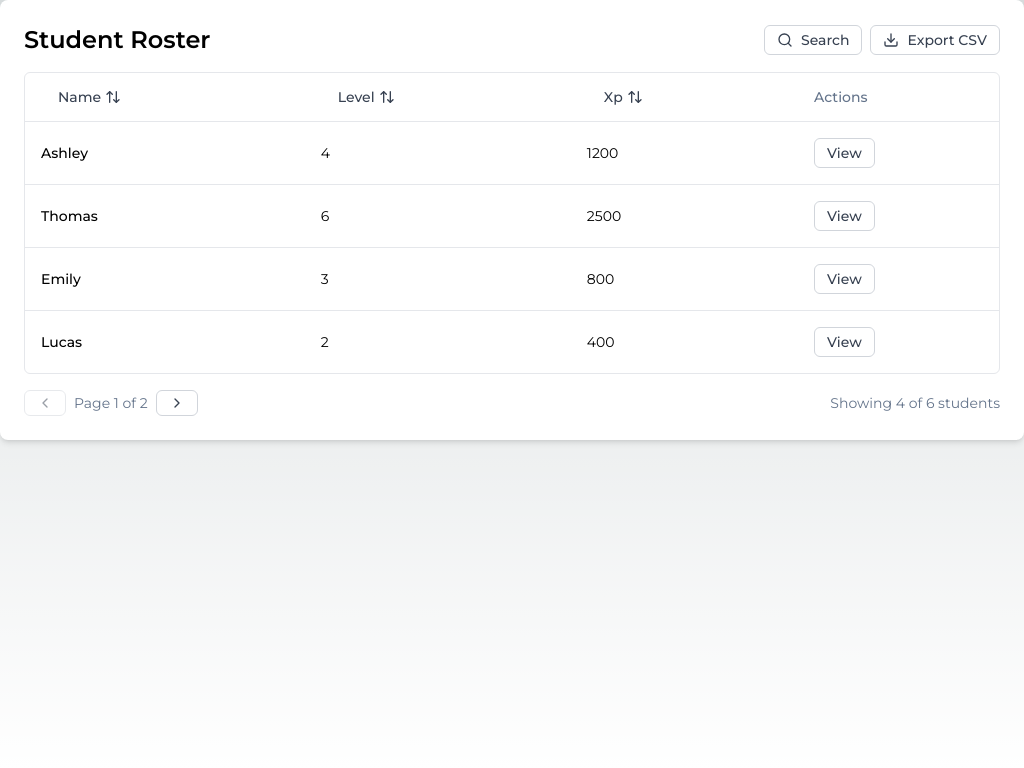
StudentRoster Performance › sorts students by level
The image size is (1024, 768).
Click the button "Level".
click(366, 97)  # box [321,77,412,117]
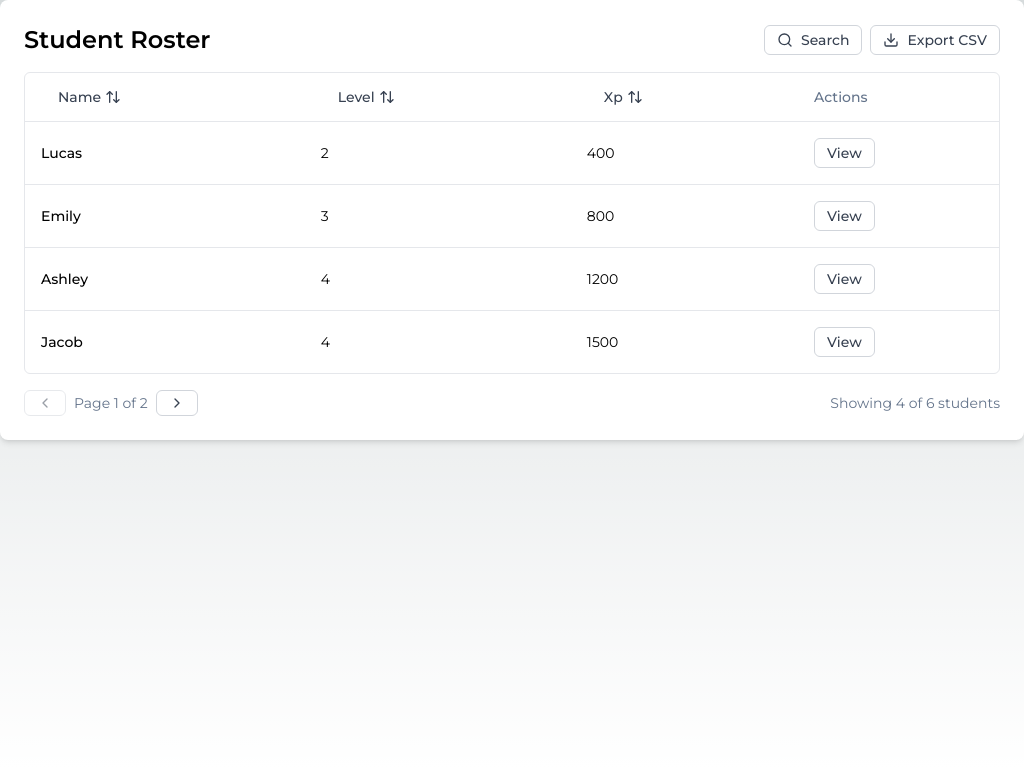
Check: the text "Lucas" is shown, box [25,121,305,184]
// Click again for descending
Click the button "Level".
click(366, 97)  # box [321,77,412,117]
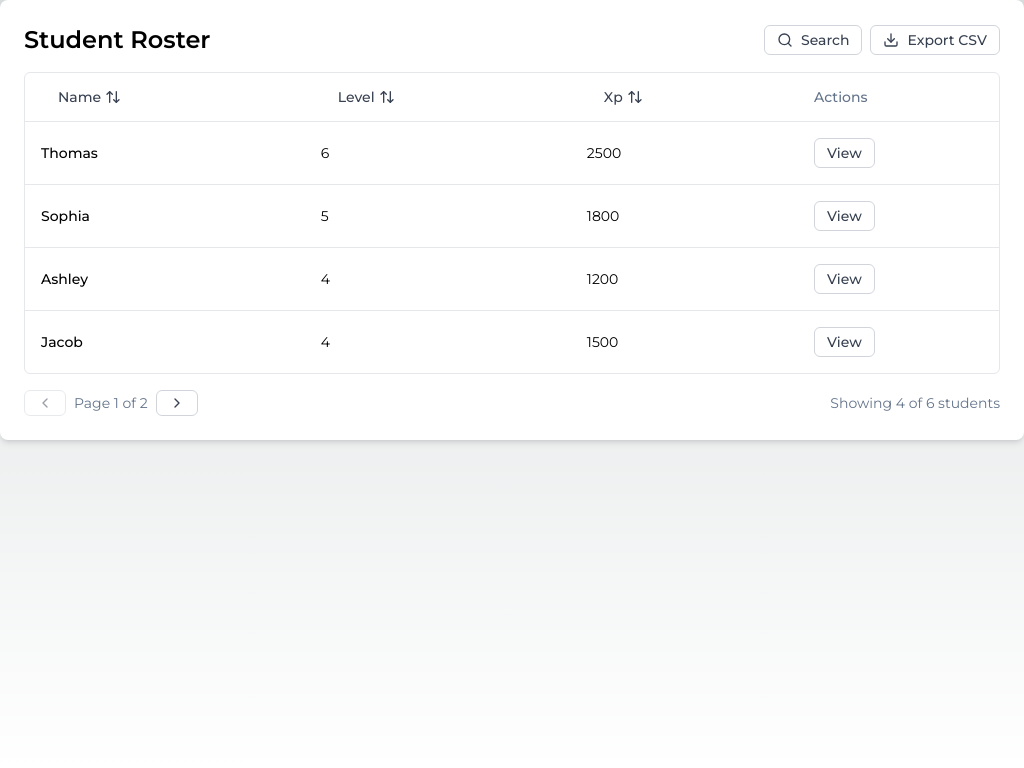
Check: the text "Thomas" is shown, box [25,121,305,184]
